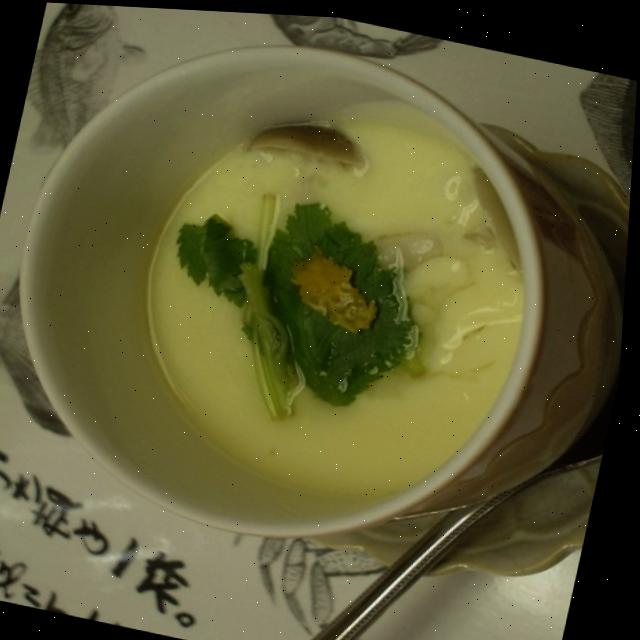鸡蛋料理: (0, 0, 640, 601)
